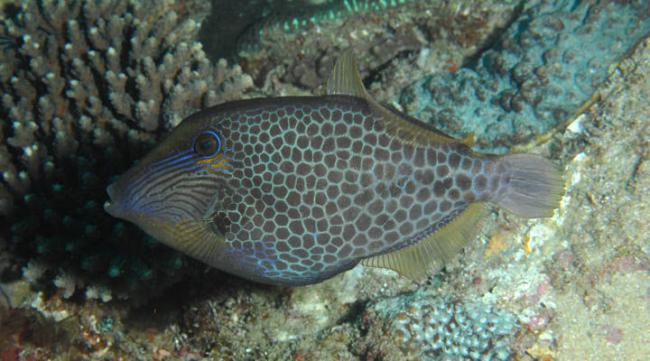fish: (102, 47, 569, 286)
